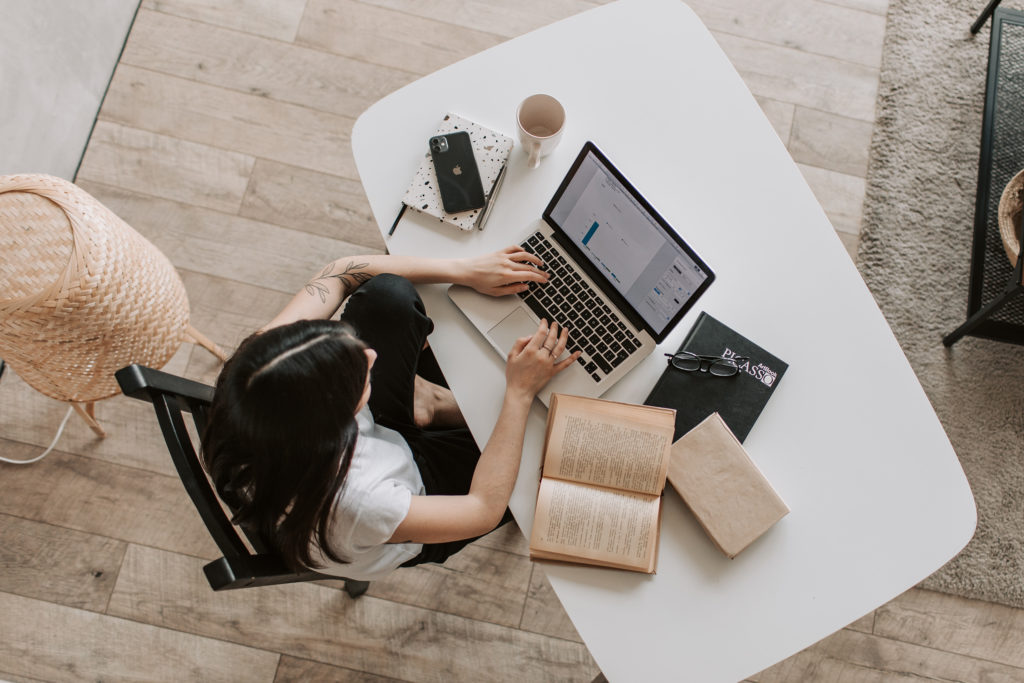Open Book: (524, 390, 683, 582)
